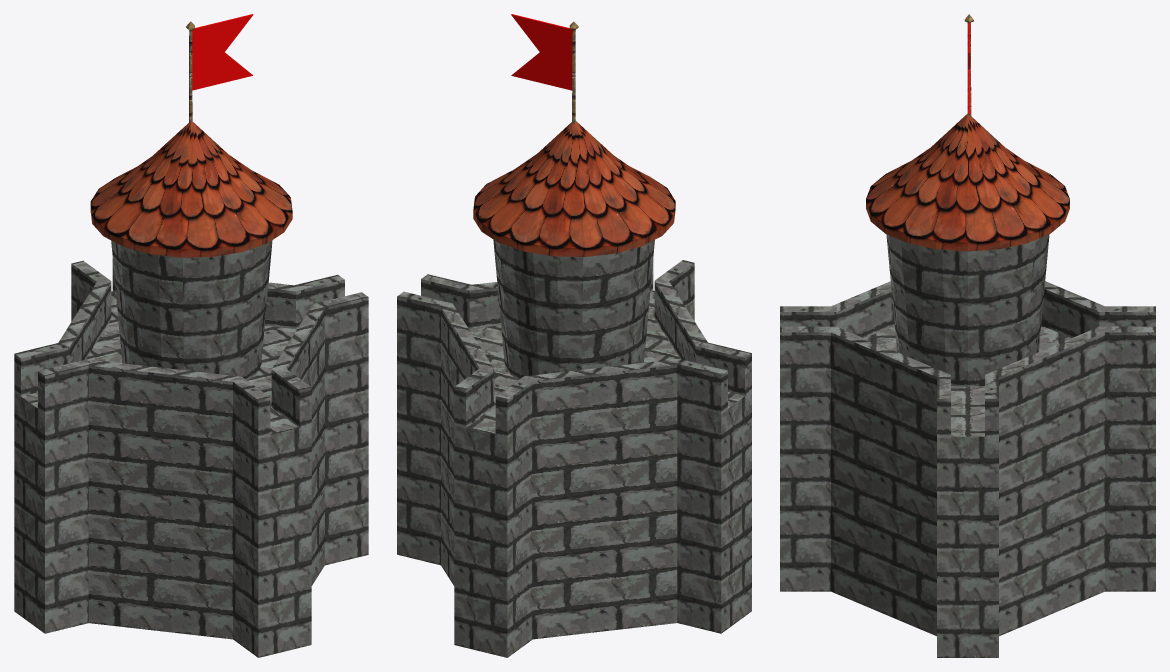
File: TorreEdit.FBX
The picture shows the model from 3 angles, left to right: view 1: azimuth 30°, elevation 25°; view 2: azimuth 150°, elevation 25°; view 3: azimuth 270°, elevation 25°; orthographic projection.
Parts seen in each view (by area): view 1: Torre; view 2: Torre; view 3: Torre.
Part boxes in pixels (bbox=[...]): Torre: bbox=[14, 14, 368, 657]; Torre: bbox=[397, 14, 751, 657]; Torre: bbox=[780, 14, 1155, 657].
Bounding box in the file's own units: 1 × 1.66 × 1.
Materials: 4 (3 with a texture image).
